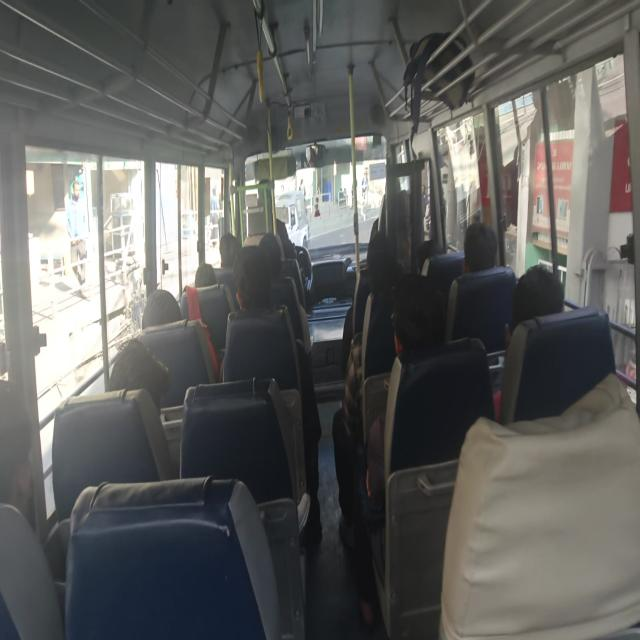person: (0, 371, 58, 546), (379, 287, 453, 386), (103, 339, 159, 410), (366, 255, 408, 319), (519, 276, 567, 328), (142, 278, 186, 333), (233, 254, 270, 309), (466, 206, 496, 266), (262, 233, 297, 280), (222, 224, 247, 263), (361, 231, 392, 258), (417, 226, 442, 256), (197, 268, 216, 297)
